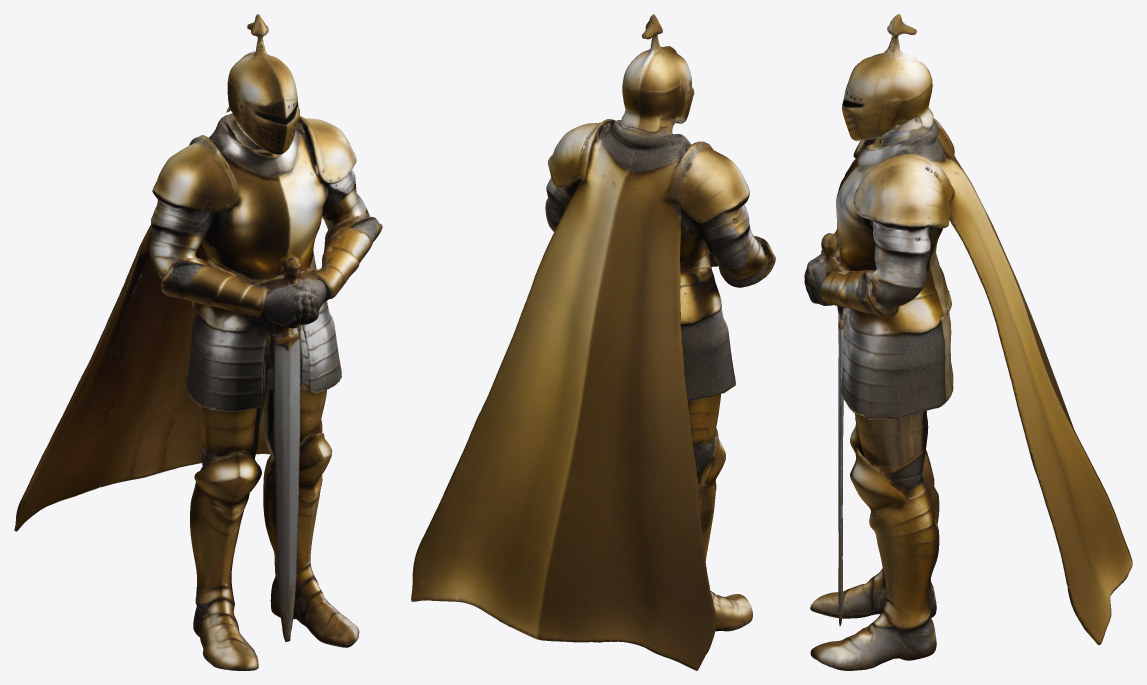
The model's file is nickpanek-knight-1643.glb.
The picture shows the model from 3 angles, left to right: view 1: azimuth 30°, elevation 25°; view 2: azimuth 150°, elevation 25°; view 3: azimuth 270°, elevation 25°; orthographic projection.
Parts seen in each view (by area): view 1: Mesh_0; view 2: Mesh_0; view 3: Mesh_0.
Part boxes in pixels (x1,y1,x2,y2): Mesh_0: [14, 14, 382, 670]; Mesh_0: [411, 14, 775, 670]; Mesh_0: [804, 14, 1132, 670].
Bounding box in the file's own units: 0.1303 × 0.254 × 0.1211.
Materials: 1 (1 with a texture image).
